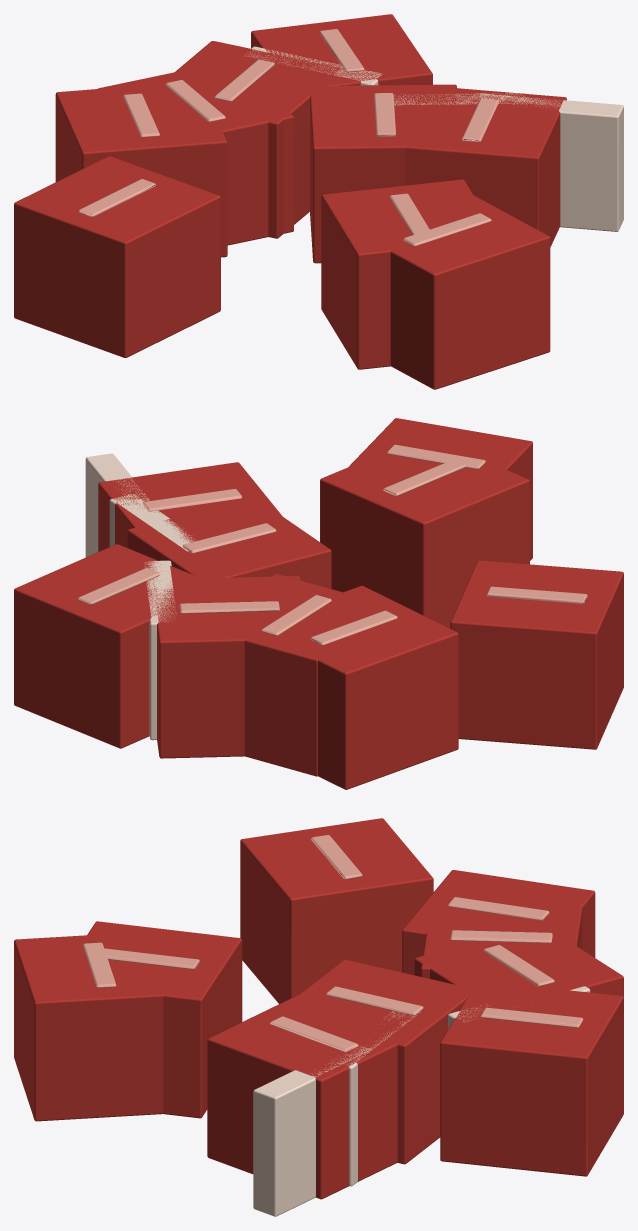
File: Steak_Chopped.glb
The picture shows the model from 3 angles, top to bottom: view 1: azimuth 30°, elevation 25°; view 2: azimuth 150°, elevation 25°; view 3: azimuth 270°, elevation 25°; orthographic projection. The views are drawn at different scales.
Visible parts, largest first — view 1: Steak_Chopped; view 2: Steak_Chopped; view 3: Steak_Chopped.
Boxes of the visible parts, <box> form: Steak_Chopped: <box>14,14,623,389</box>; Steak_Chopped: <box>14,418,623,789</box>; Steak_Chopped: <box>14,818,623,1216</box>.
Bounding box in the file's own units: 0.1306 × 0.0266 × 0.12.
